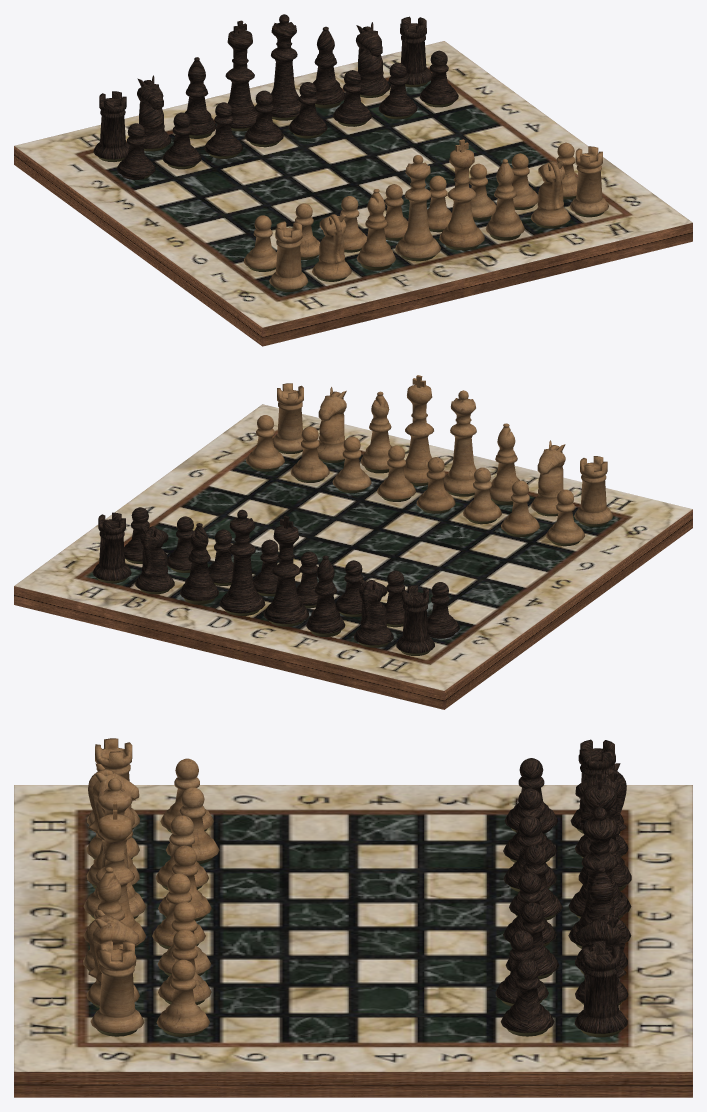
File: chess_board.glb
The picture shows the model from 3 angles, top to bottom: view 1: azimuth 30°, elevation 25°; view 2: azimuth 150°, elevation 25°; view 3: azimuth 270°, elevation 25°; orthographic projection. The views are drawn at different scales.
Visible parts, largest first — view 1: Cube, Cube.004, Cylinder.005; view 2: Cube, Cylinder.005, Cube.004; view 3: Cube, Cube.004, Cylinder.005.
Boxes of the visible parts, bbox=[...] form: Cube: bbox=[14, 41, 692, 346]; Cube.004: bbox=[93, 14, 458, 179]; Cylinder.005: bbox=[243, 139, 608, 291]; Cube: bbox=[14, 404, 692, 709]; Cylinder.005: bbox=[246, 375, 613, 546]; Cube.004: bbox=[92, 507, 459, 655]; Cube: bbox=[14, 785, 692, 1097]; Cube.004: bbox=[495, 739, 631, 1037]; Cylinder.005: bbox=[83, 738, 219, 1037].
Size of the model in its own units: 2 by 0.5385 by 2.
Materials: 3 (3 with a texture image).
